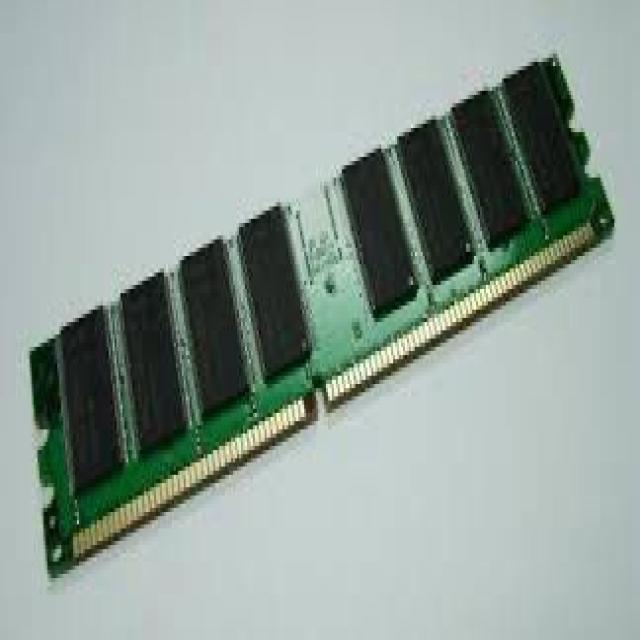Ram: (97, 80, 599, 550)
